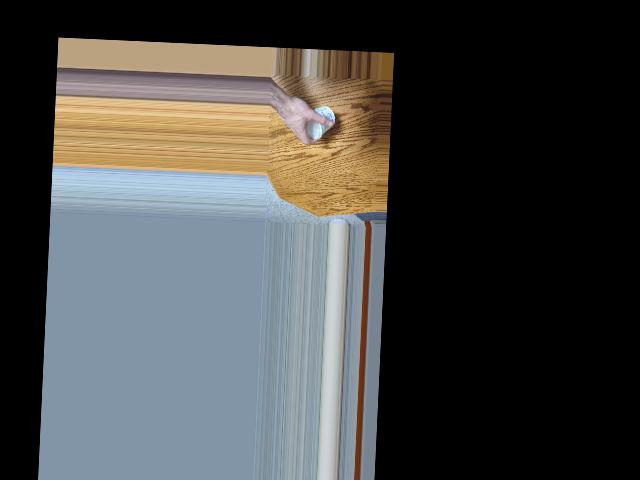cotage: (300, 101, 333, 141)
